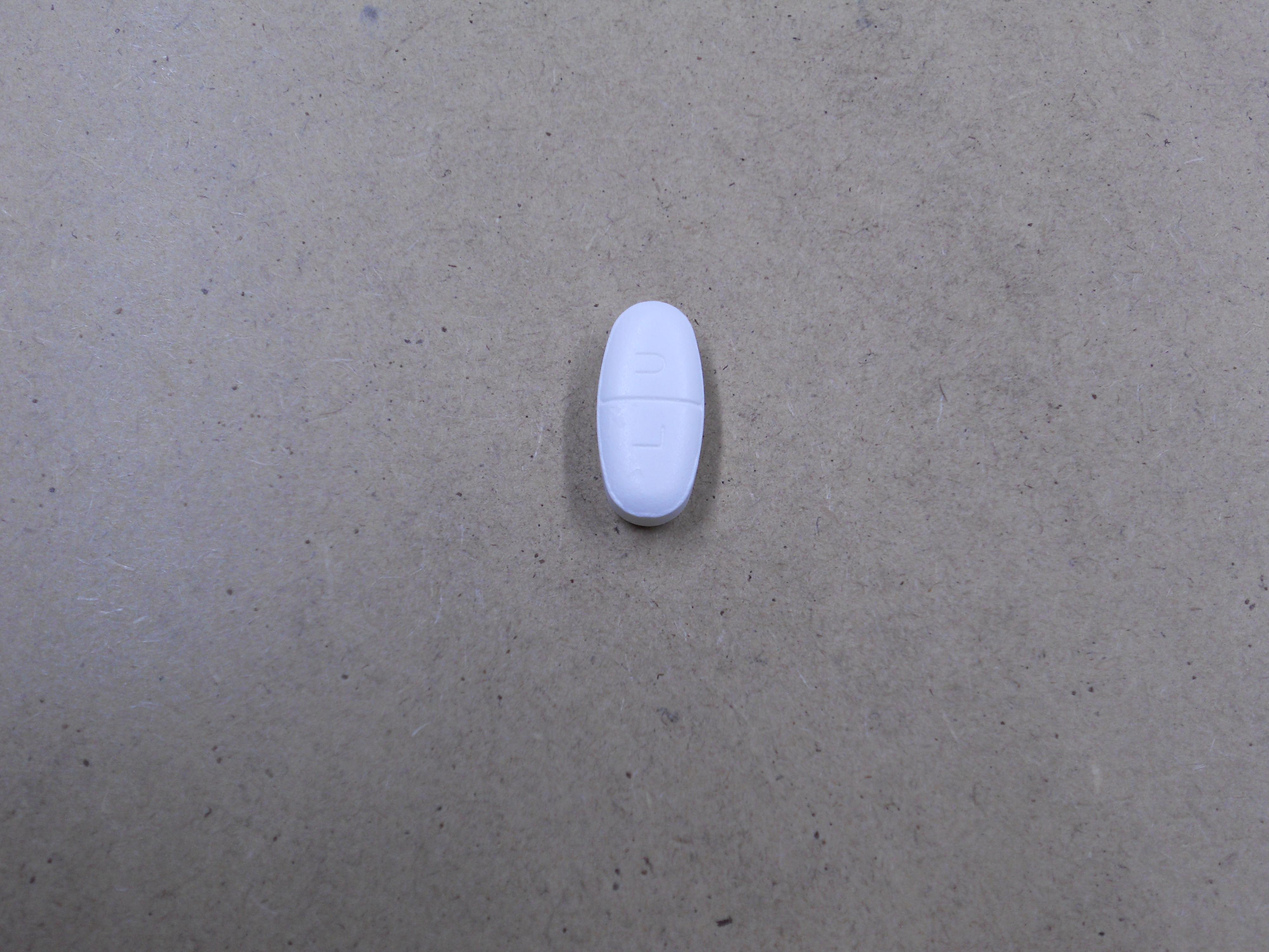Pill: (590, 294, 714, 533)
